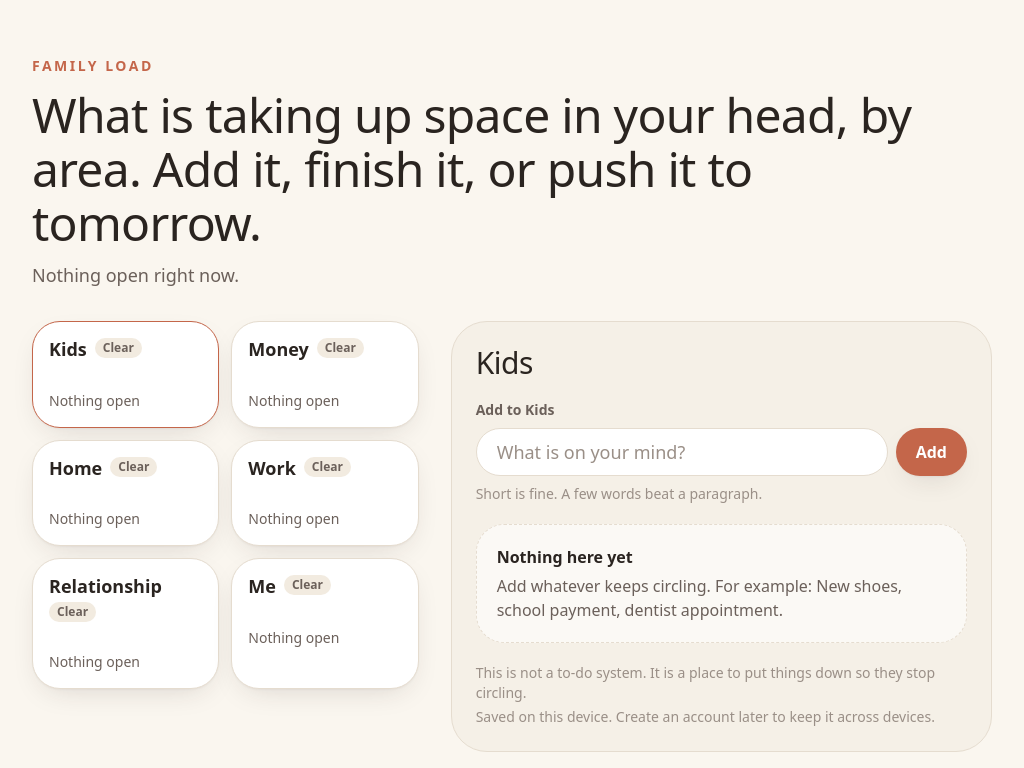
Family Load › shows six categories and an empty state, and adds an item
Expected: the text "Nothing here yet" is shown, [497,546,633,568]
Expected: the text "Nothing open right now." is shown, [32,263,239,287]
Type "Buy new shoes" into the field at (682, 452), box [476,428,888,476]
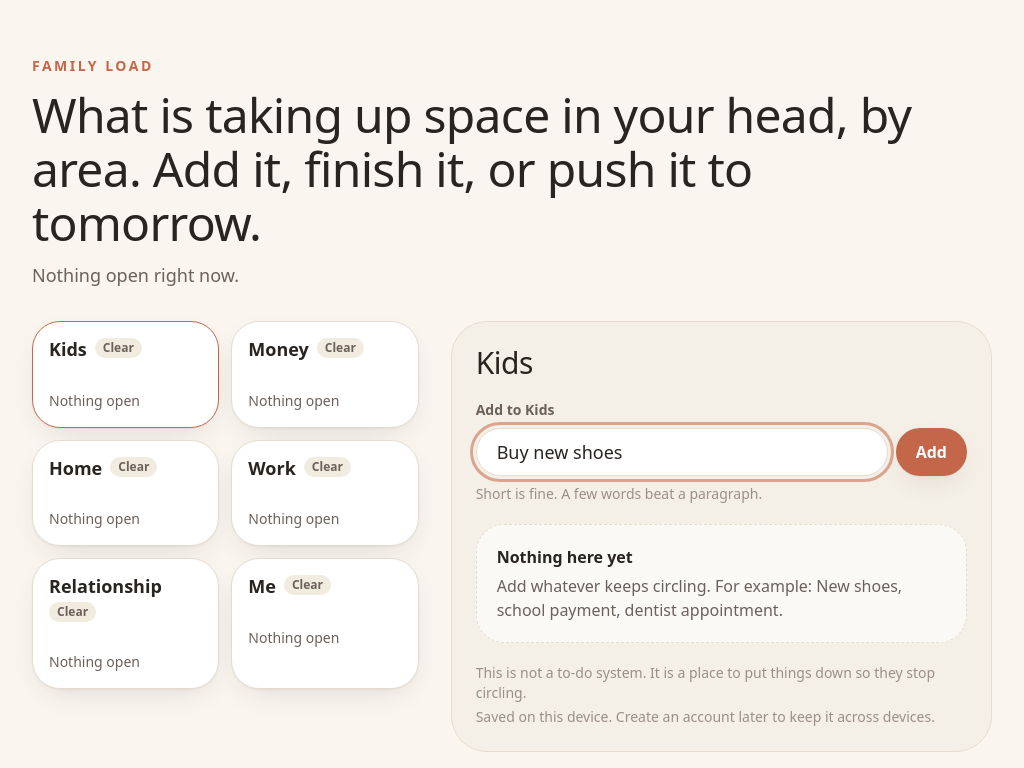
Click the button "Add" at (931, 452), box [896,428,967,476]
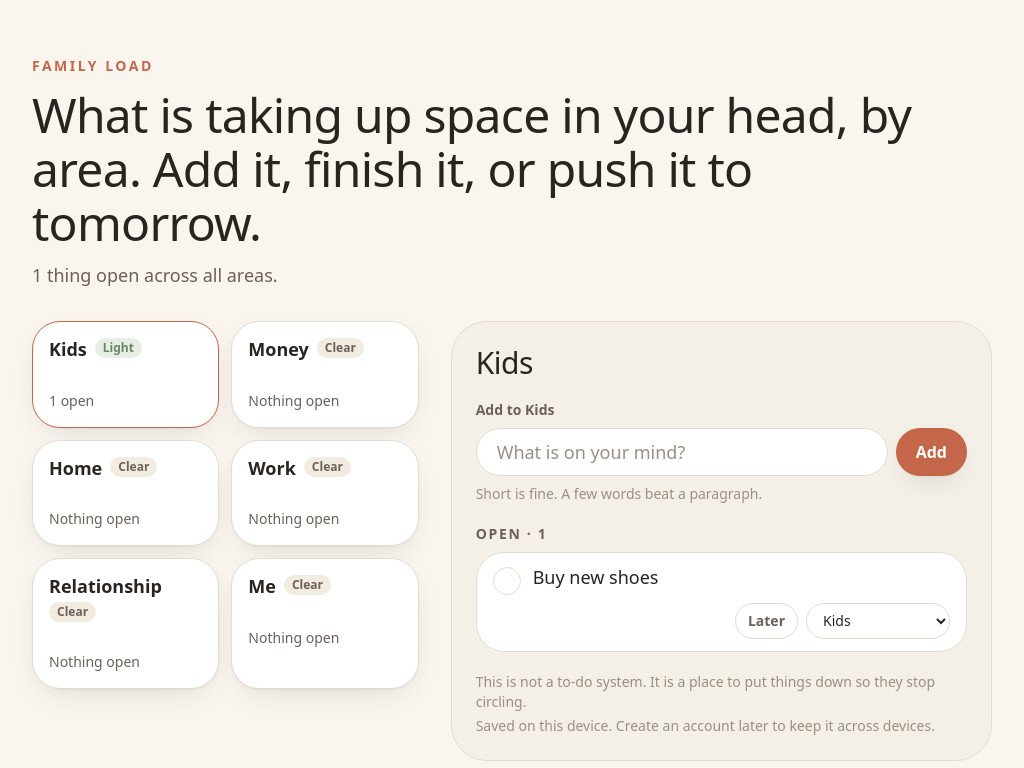
Expected: the text "Buy new shoes" is shown, [533,565,658,589]
Expected: the text "1 thing open across all areas." is shown, [32,263,278,287]
Expected: the field is empty, [476,428,888,476]
